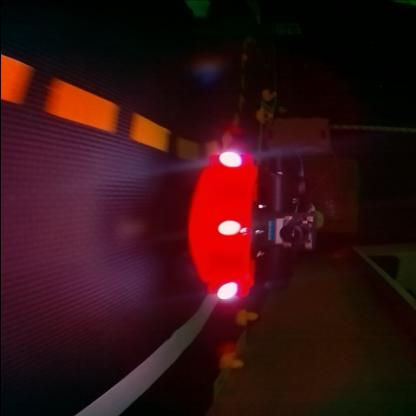Duckie: (218, 352, 242, 370), (235, 309, 258, 327), (256, 111, 272, 124), (262, 90, 276, 100)
Duckiebot: (190, 152, 318, 300)
